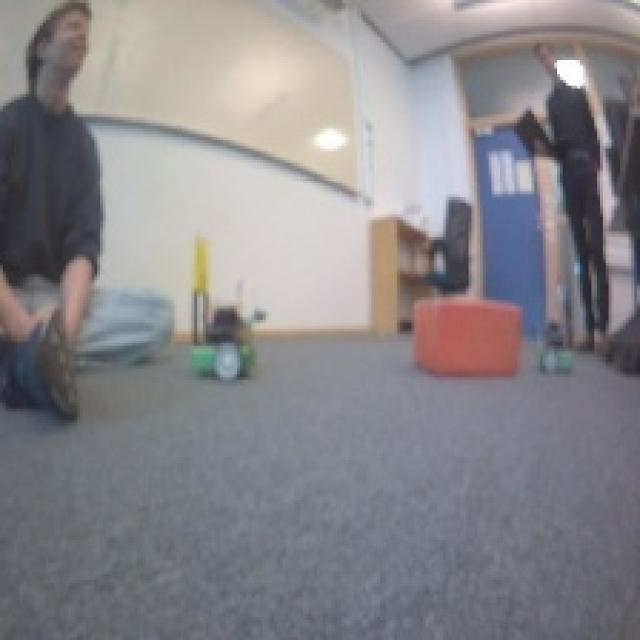robot: (186, 315, 257, 380), (536, 323, 580, 375)
target: (408, 292, 523, 377)
